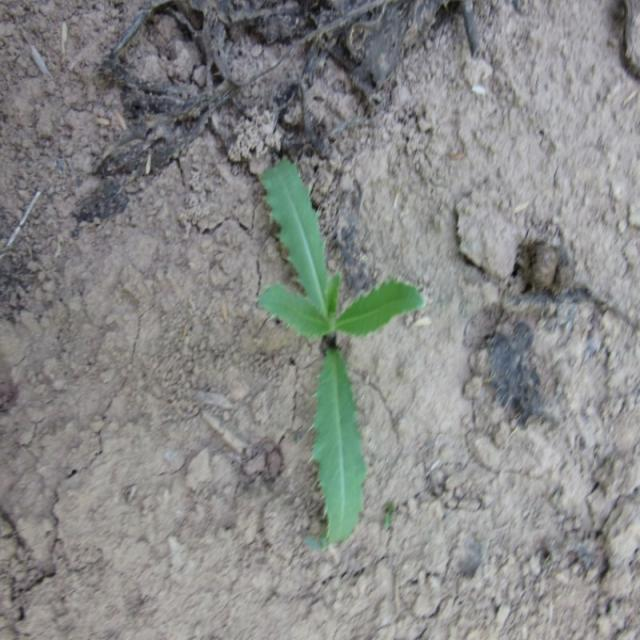field_thistle: (246, 125, 428, 530)
